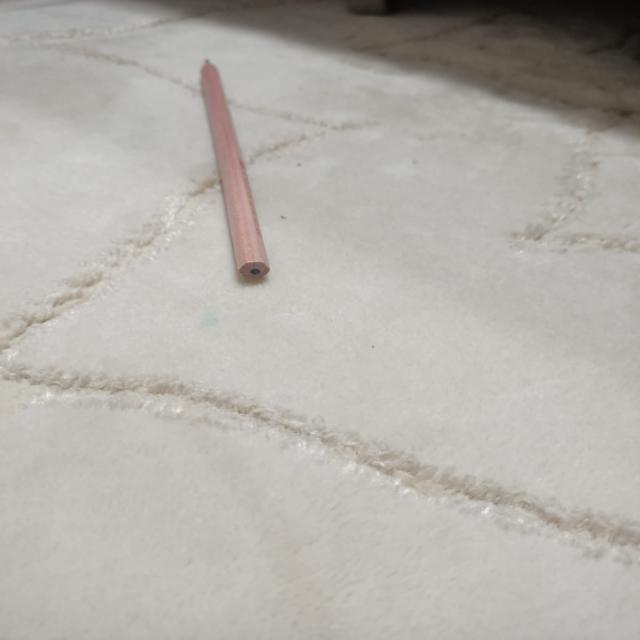pencil: (200, 60, 269, 282)
